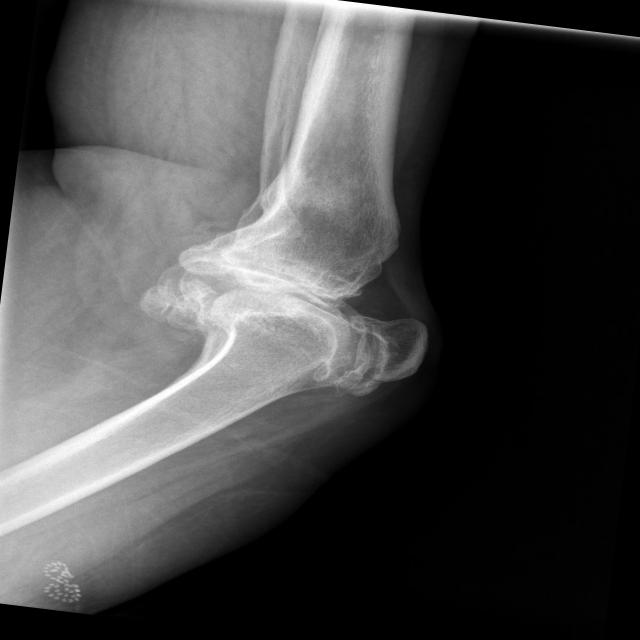Knee: (128, 178, 446, 422)
